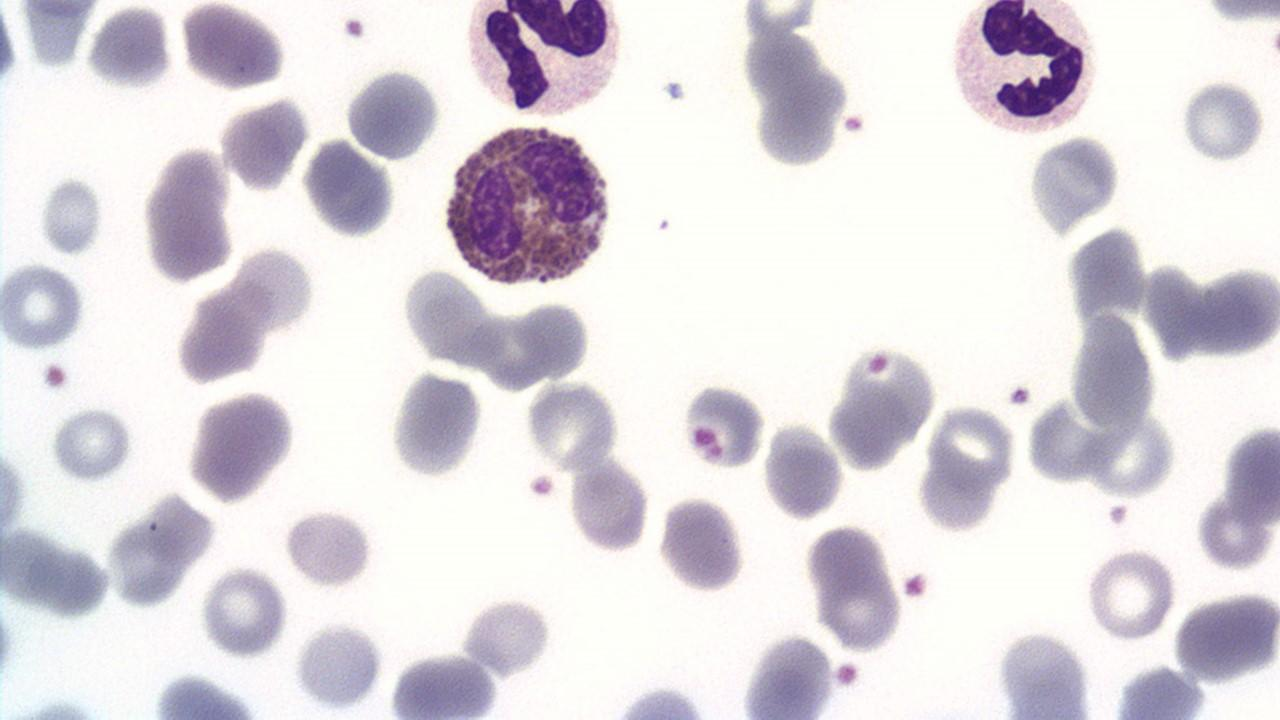Platelets: (900, 568, 932, 604), (40, 358, 71, 394), (526, 470, 558, 502), (337, 14, 370, 44), (832, 659, 862, 691), (1266, 20, 1280, 72)
RBC: (820, 337, 944, 472), (137, 142, 238, 289), (187, 384, 301, 503), (808, 524, 904, 656), (384, 368, 485, 482), (1068, 311, 1158, 437), (104, 501, 202, 612), (300, 134, 402, 240), (1169, 588, 1280, 684), (1024, 130, 1122, 237), (1171, 587, 1280, 683), (342, 63, 444, 164), (178, 1, 289, 92), (655, 490, 748, 596), (990, 625, 1098, 716), (290, 618, 385, 714), (216, 97, 310, 193), (526, 379, 622, 473), (1083, 546, 1177, 642), (738, 628, 840, 716), (566, 456, 653, 555), (680, 376, 768, 473), (760, 420, 845, 520), (198, 569, 290, 661), (1085, 410, 1177, 502), (102, 521, 193, 614), (458, 595, 559, 678), (926, 403, 1018, 492), (282, 506, 378, 590), (749, 85, 840, 173), (384, 651, 505, 717), (0, 260, 88, 350), (87, 4, 176, 92), (1193, 482, 1275, 574), (46, 409, 133, 483), (1222, 418, 1278, 529), (914, 462, 998, 534), (35, 177, 108, 256), (1108, 660, 1210, 716), (144, 672, 262, 718), (16, 692, 104, 718), (1201, 0, 1277, 26), (0, 606, 19, 682)
WBC: (439, 116, 619, 293), (940, 0, 1104, 143), (460, 0, 630, 121)
